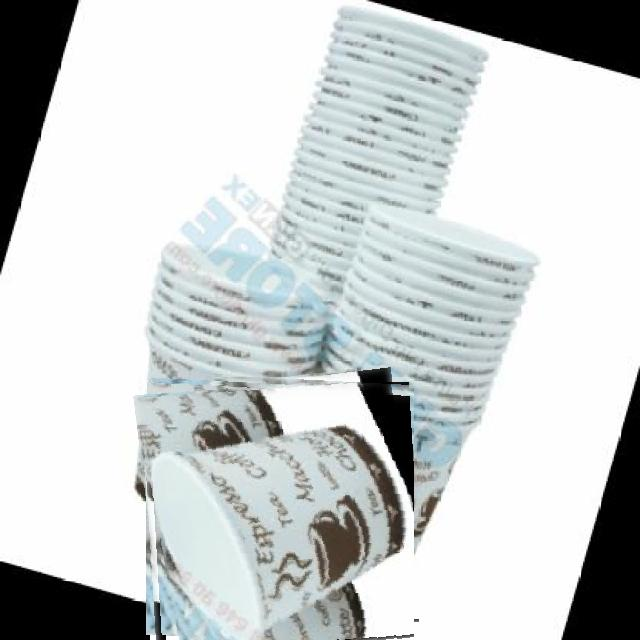non-biodegradable: (140, 371, 414, 640)
